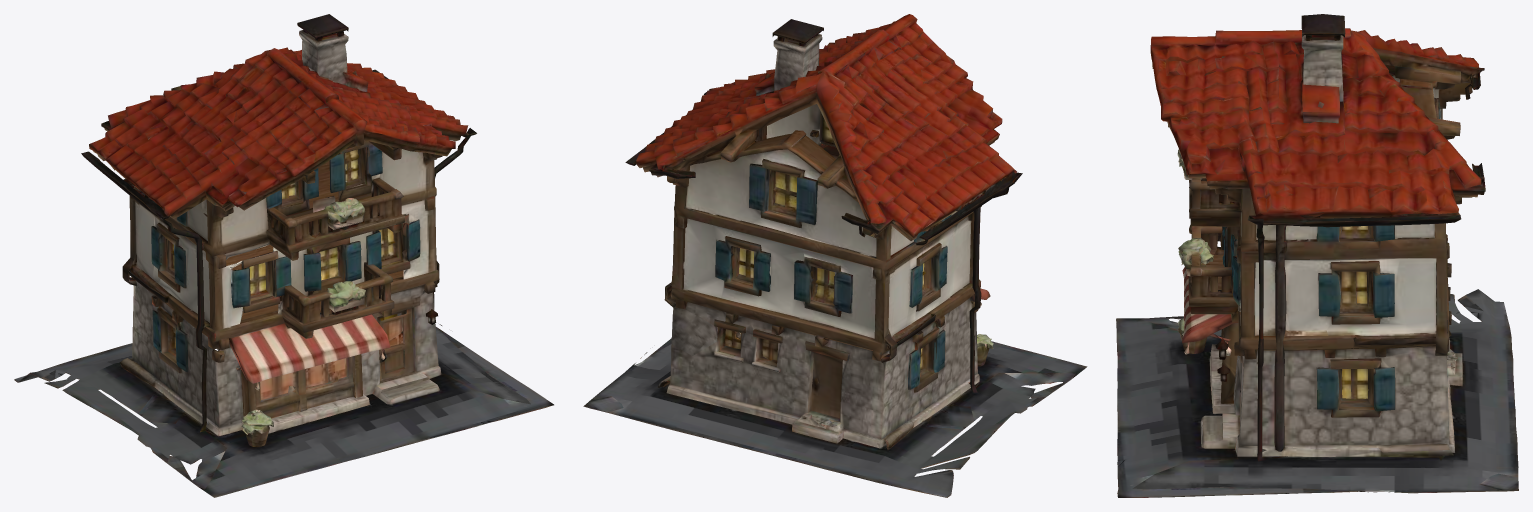
Rendered from candidate.glb.
3 renders of one model, left to right at view 1: azimuth 30°, elevation 25°; view 2: azimuth 150°, elevation 25°; view 3: azimuth 270°, elevation 25°, orthographic. The views are drawn at different scales.
Parts seen in each view (by area): view 1: alpine__shop_3__native_mobile; view 2: alpine__shop_3__native_mobile; view 3: alpine__shop_3__native_mobile.
Part boxes in pixels (<box>): alpine__shop_3__native_mobile: <box>14,14,553,497</box>; alpine__shop_3__native_mobile: <box>583,14,1087,497</box>; alpine__shop_3__native_mobile: <box>1116,14,1518,497</box>.
Size of the model in its own units: 1 by 0.9524 by 0.828.
1 material, 1 textured.
